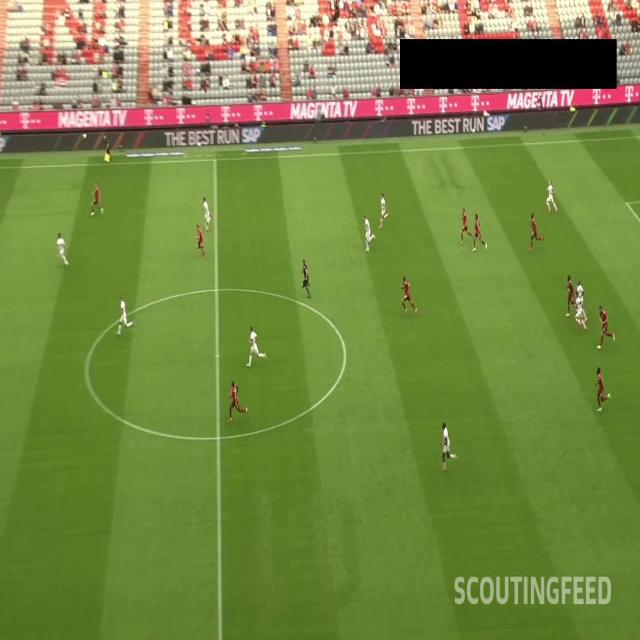ball: (81, 130, 88, 142)
player: (226, 378, 248, 424), (439, 422, 458, 474), (246, 323, 267, 370), (114, 294, 135, 338), (594, 365, 612, 412), (598, 303, 615, 352), (399, 276, 417, 315), (564, 275, 580, 318), (472, 211, 488, 253), (528, 211, 544, 252), (459, 208, 475, 245), (56, 228, 70, 268), (574, 281, 587, 323), (574, 292, 587, 334), (90, 180, 104, 218), (362, 214, 376, 252), (545, 178, 558, 214), (202, 195, 214, 232), (379, 190, 390, 230), (194, 223, 206, 258)
referee: (300, 257, 312, 300), (102, 132, 113, 163)
